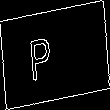P_N: (42, 28, 68, 82)
